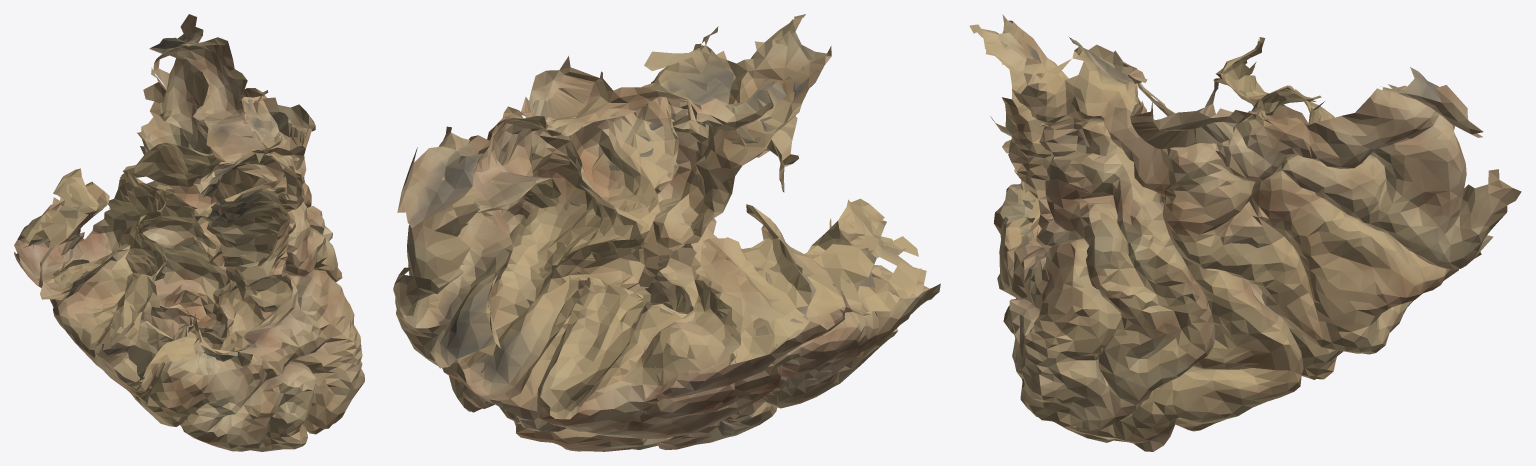
File: R_Occipital_Lobe.obj
The picture shows the model from 3 angles, left to right: view 1: azimuth 30°, elevation 25°; view 2: azimuth 150°, elevation 25°; view 3: azimuth 270°, elevation 25°; orthographic projection. The views are drawn at different scales.
Parts seen in each view (by area): view 1: R_Occipital_Lobe_R_Cortex_final.003; view 2: R_Occipital_Lobe_R_Cortex_final.003; view 3: R_Occipital_Lobe_R_Cortex_final.003.
Part boxes in pixels (x1,y1,x2,y2): R_Occipital_Lobe_R_Cortex_final.003: [14, 14, 364, 451]; R_Occipital_Lobe_R_Cortex_final.003: [393, 14, 940, 451]; R_Occipital_Lobe_R_Cortex_final.003: [969, 14, 1521, 451].
Bounding box in the file's own units: 217 × 241 × 314.
